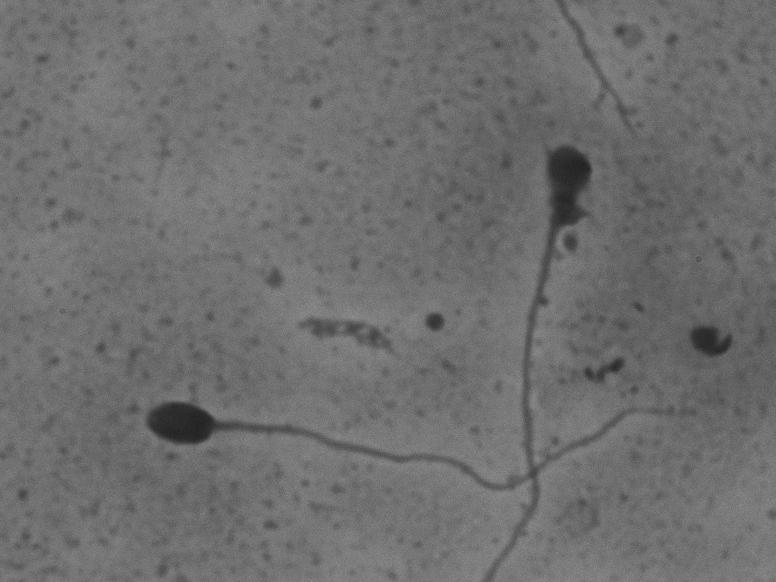Abnormal: (465, 114, 613, 578)
Normal: (113, 351, 703, 508)
